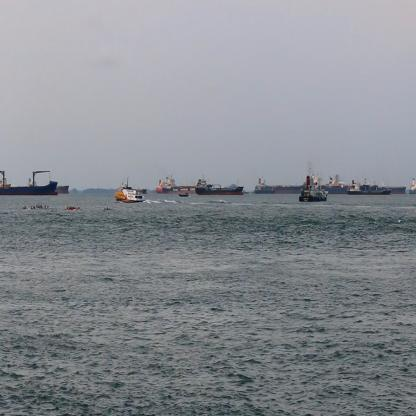Container Ship: (250, 172, 344, 194), (0, 168, 60, 196), (339, 171, 408, 193), (298, 159, 330, 203), (196, 173, 245, 196), (157, 170, 197, 194), (347, 176, 392, 195), (28, 176, 70, 192), (119, 175, 149, 195)
